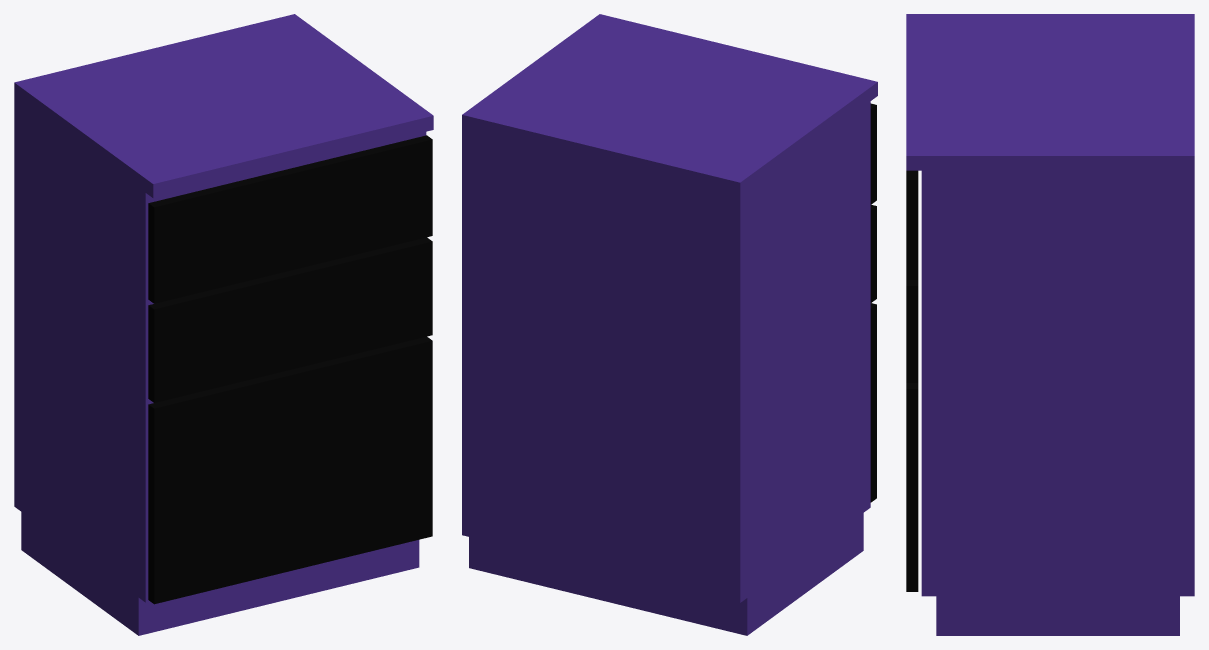
The model's file is kitchen2.fbx.
The picture shows the model from 3 angles, left to right: view 1: azimuth 30°, elevation 25°; view 2: azimuth 150°, elevation 25°; view 3: azimuth 270°, elevation 25°; orthographic projection. The views are drawn at different scales.
Parts seen in each view (by area): view 1: kitchen2; view 2: kitchen2; view 3: kitchen2.
Boxes of the visible parts, x1,y1,x2,y2 form: kitchen2: (14,14,433,635); kitchen2: (462,14,877,635); kitchen2: (906,14,1194,635).
Size of the model in its own units: 52.6 by 82.83 by 45.11.
